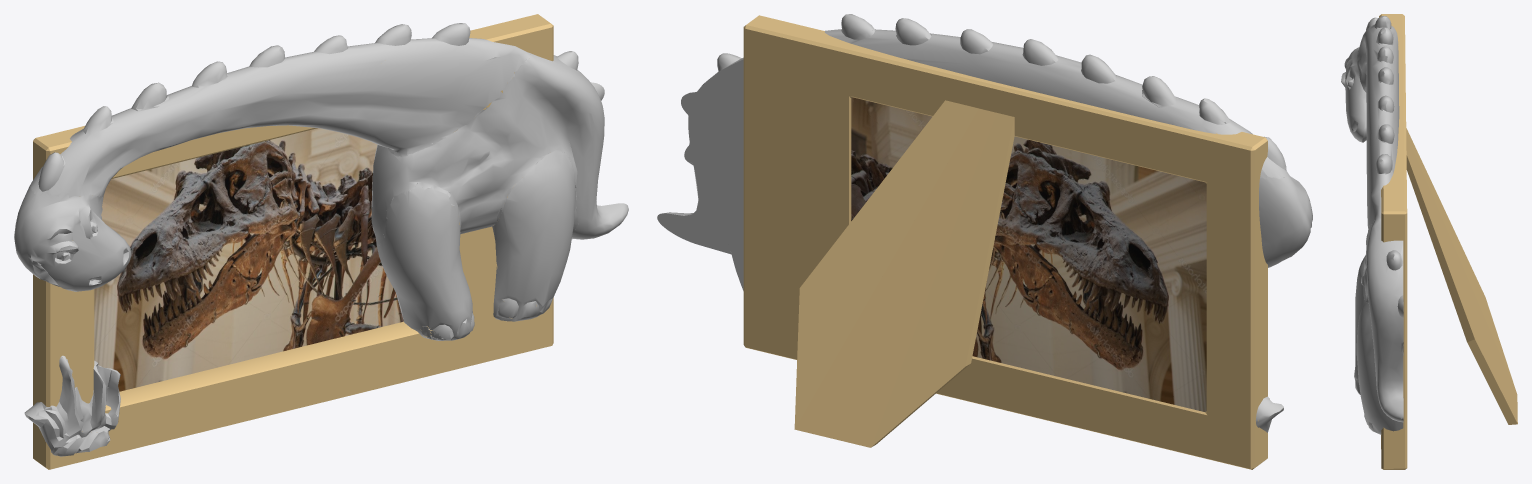
The model's file is DinoFrame.fbx.
The picture shows the model from 3 angles, left to right: view 1: azimuth 30°, elevation 25°; view 2: azimuth 150°, elevation 25°; view 3: azimuth 270°, elevation 25°; orthographic projection. The views are drawn at different scales.
Visible parts, largest first — view 1: DinoFrame, PicturePlane; view 2: DinoFrame, PicturePlane; view 3: DinoFrame.
Boxes of the visible parts, x1,y1,x2,y2 form: DinoFrame: [14, 14, 628, 469]; PicturePlane: [94, 128, 403, 391]; DinoFrame: [657, 14, 1312, 469]; PicturePlane: [851, 97, 1206, 411]; DinoFrame: [1341, 14, 1517, 469].
Size of the model in its own units: 247 by 137 by 74.58.
